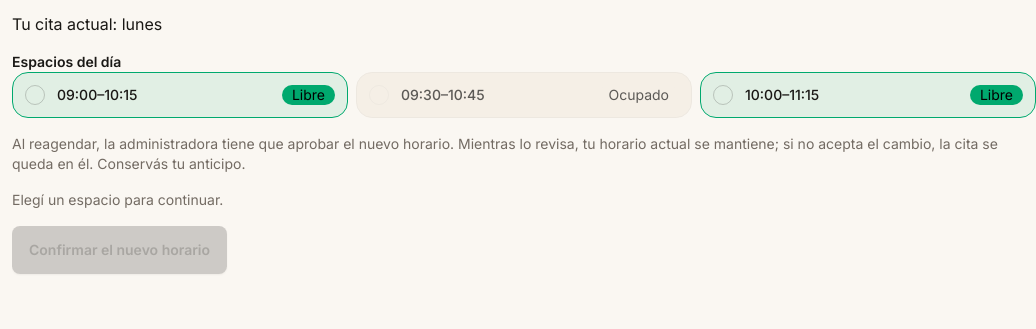
Test: RescheduleForm › si la base lo rechaza muestra el mensaje y deja elegir otro espacio
The width and height of the screenshot is (1036, 329).
Click the radio button labelled "09:00–10:15 Libre". click: (35, 95)
box: [25,85,45,105]
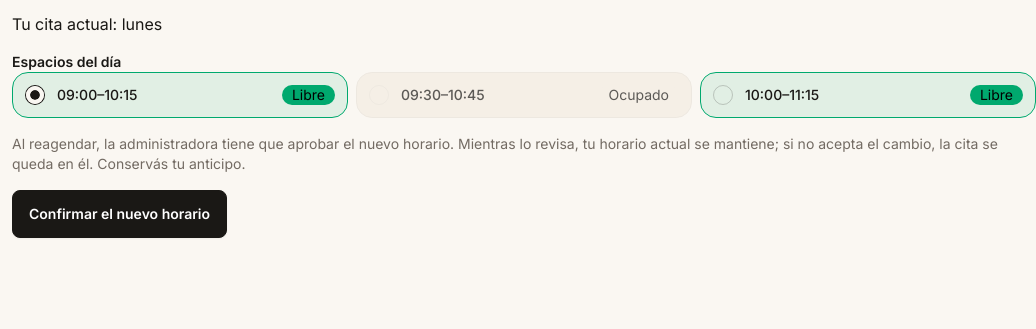
Click the button "Confirmar el nuevo horario". click: (120, 214)
box: [12,190,227,238]
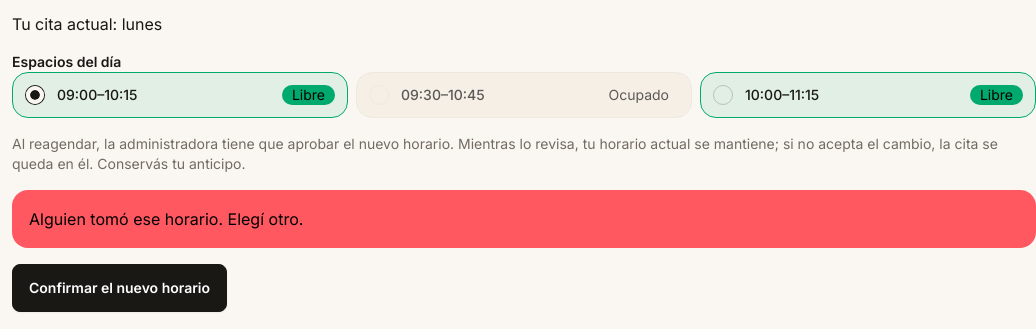
Expected: the message reads "Alguien tomó ese horario. Elegí otro.", [29,209,303,229]
Click the radio button labelled "10:00–11:15 Libre". click: (723, 95)
box: [713,85,733,105]
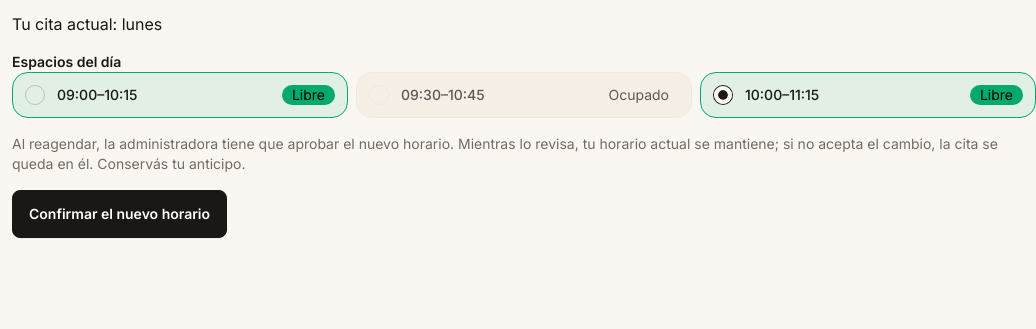
Expected: the button "Confirmar el nuevo horario" is enabled, [12,190,227,238]
Expected: the message "Alguien tomó ese horario. Elegí otro." is gone
